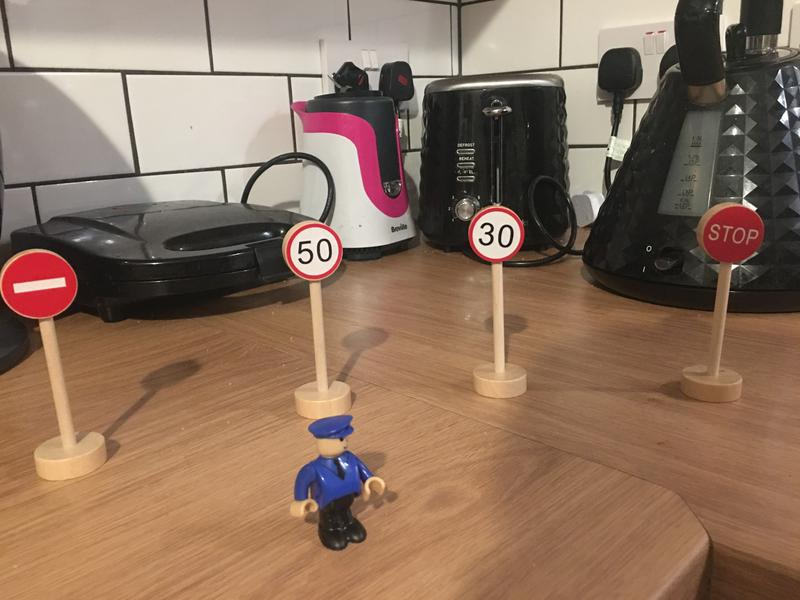Traffic_Sign_30: (468, 208, 524, 263)
Traffic_Sign_50: (286, 224, 341, 279)
Traffic_Sign_No_Entry: (1, 250, 77, 320)
Traffic_Sign_Stop: (703, 205, 764, 263)
person: (288, 414, 389, 552)
